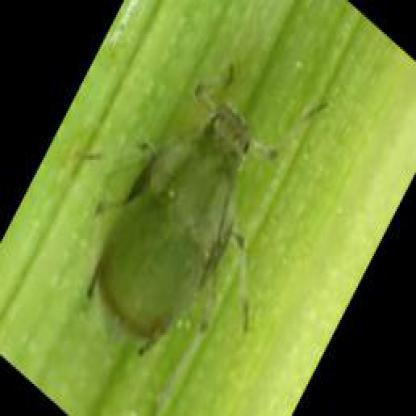schizaphis graminum: (91, 66, 328, 346)
